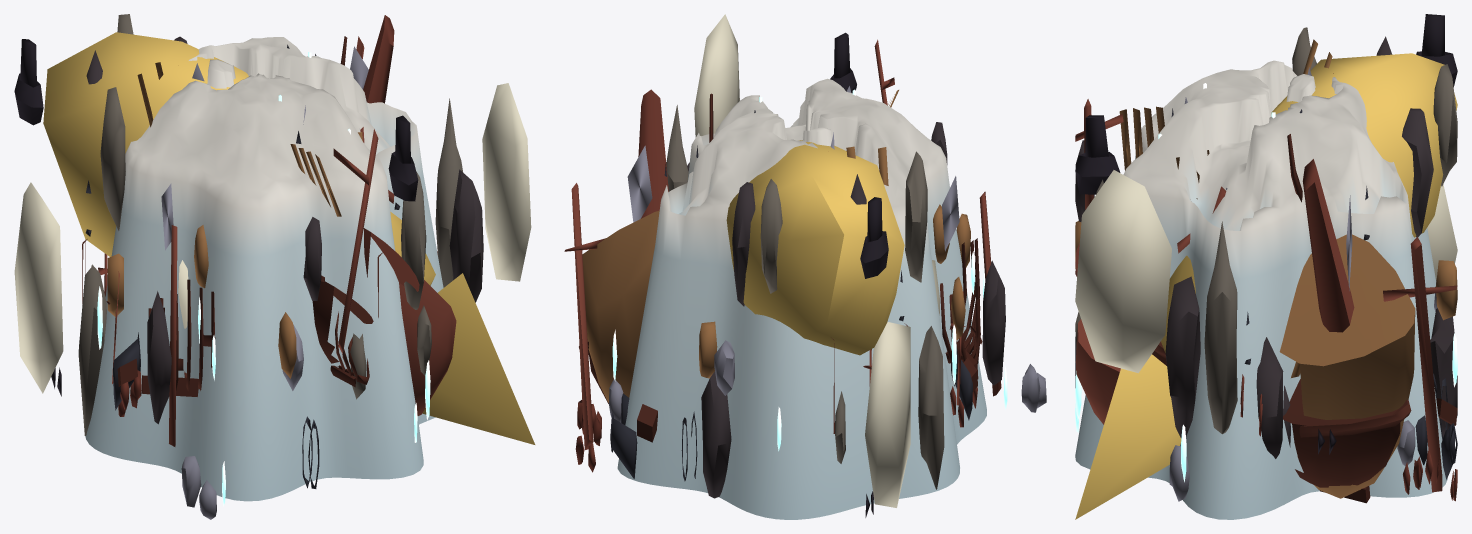
Rendered from ile-cimetiere-v4-leger.glb.
3 views of the same model, side by side, from view 1: azimuth 30°, elevation 25°; view 2: azimuth 150°, elevation 25°; view 3: azimuth 270°, elevation 25° (orthographic). The views are drawn at different scales.
Parts seen in each view (by area): view 1: cimetiere_terrain, cimetiere_decor, cimetiere_feux; view 2: cimetiere_decor, cimetiere_terrain, cimetiere_feux; view 3: cimetiere_decor, cimetiere_terrain, cimetiere_feux.
Part boxes in pixels (left/top/right/bottom): cimetiere_terrain: left=85, top=37, right=443, bottom=501; cimetiere_decor: left=14, top=14, right=535, bottom=519; cimetiere_feux: left=97, top=52, right=479, bottom=506; cimetiere_decor: left=564, top=14, right=1046, bottom=517; cimetiere_terrain: left=617, top=78, right=986, bottom=519; cimetiere_feux: left=612, top=89, right=1007, bottom=451; cimetiere_decor: left=1075, top=14, right=1457, bottom=519; cimetiere_terrain: left=1075, top=60, right=1457, bottom=519; cimetiere_feux: left=1075, top=83, right=1457, bottom=482.
Size of the model in its own units: 2 by 2 by 2.
